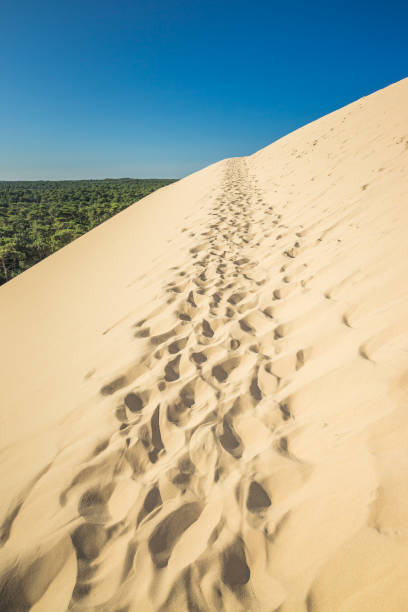human_footprint: (0, 81, 407, 611), (61, 160, 303, 610)
